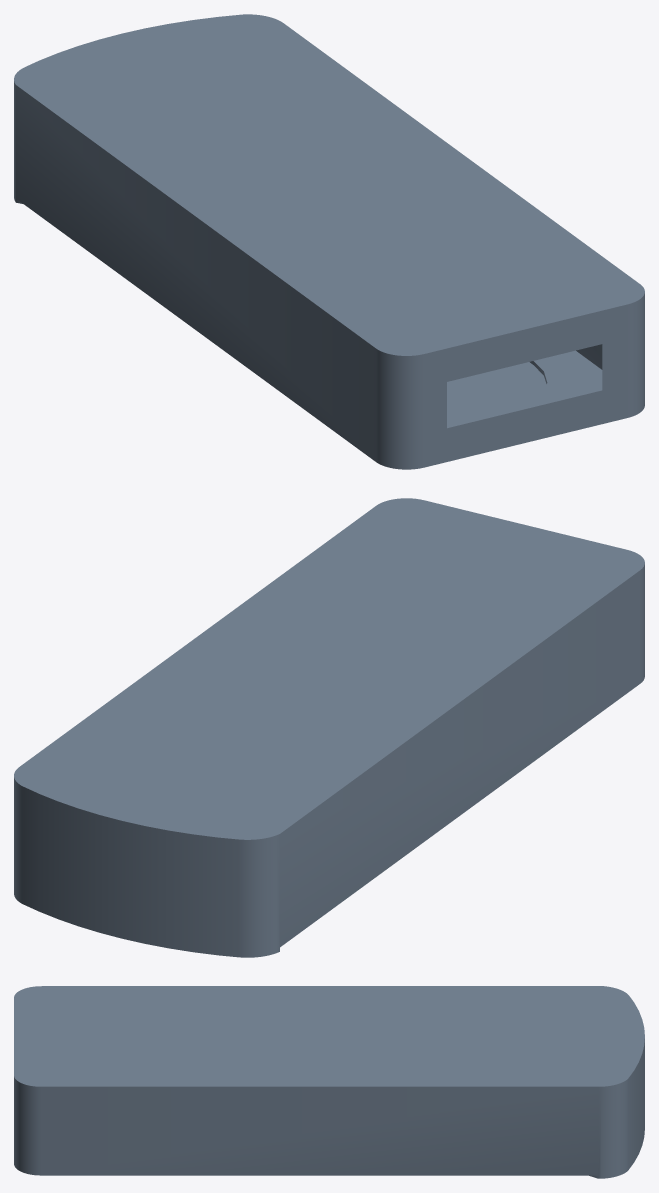
File: original-2_3.obj
3 renders of one model, top to bottom at view 1: azimuth 30°, elevation 25°; view 2: azimuth 150°, elevation 25°; view 3: azimuth 270°, elevation 25°, orthographic. The views are drawn at different scales.
Size of the model in its own units: 0.4274 by 0.1823 by 1.13.
